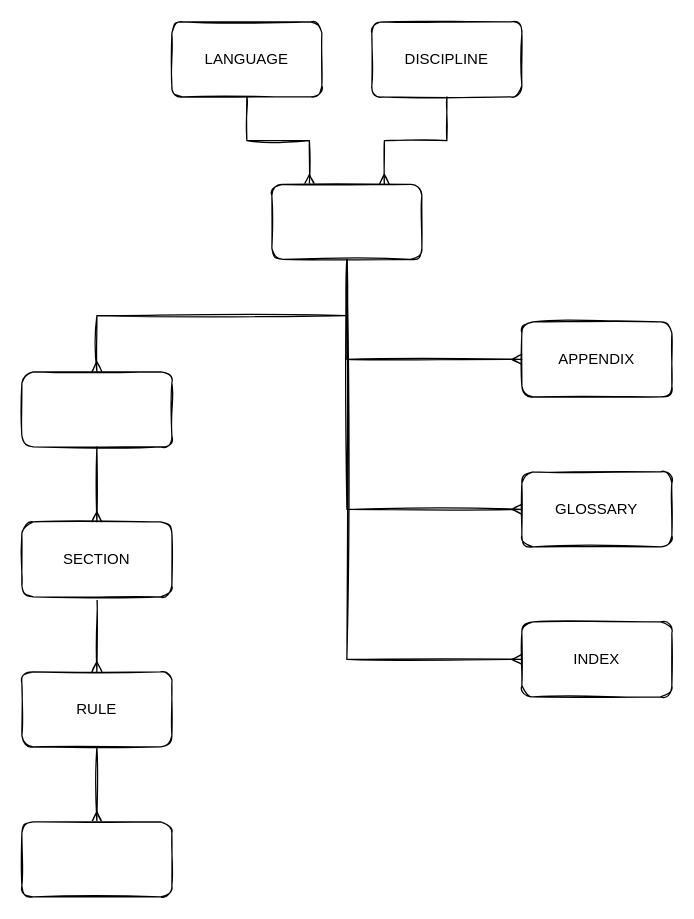
This 694x919 diagram has some shape labels left out. Here are the shapes that lost their labels. From the top down, the centre of each, then its label:
At pixel 346 221: "RULEBOOK".
At pixel 96 409: "CHAPTER".
At pixel 96 859: "SUBRULE".
